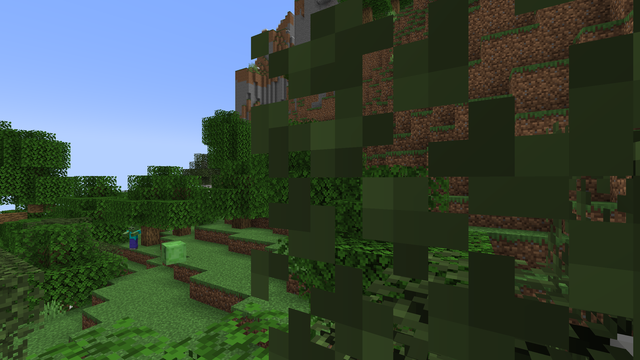slimes: (159, 240, 187, 265)
zombies: (127, 230, 139, 250)
